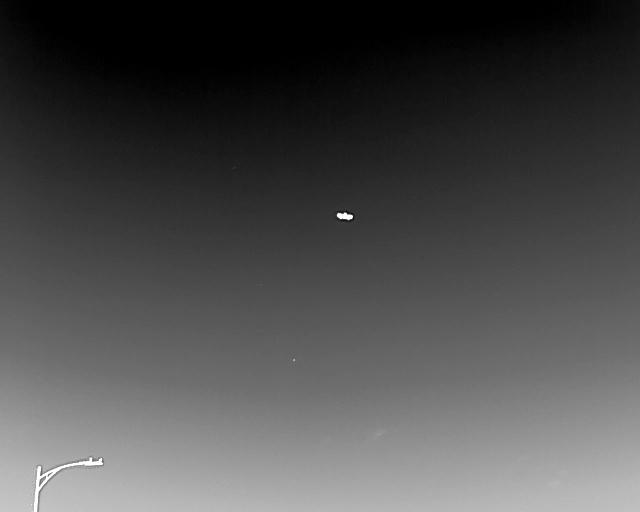fpv-drone: (335, 211, 353, 222)
